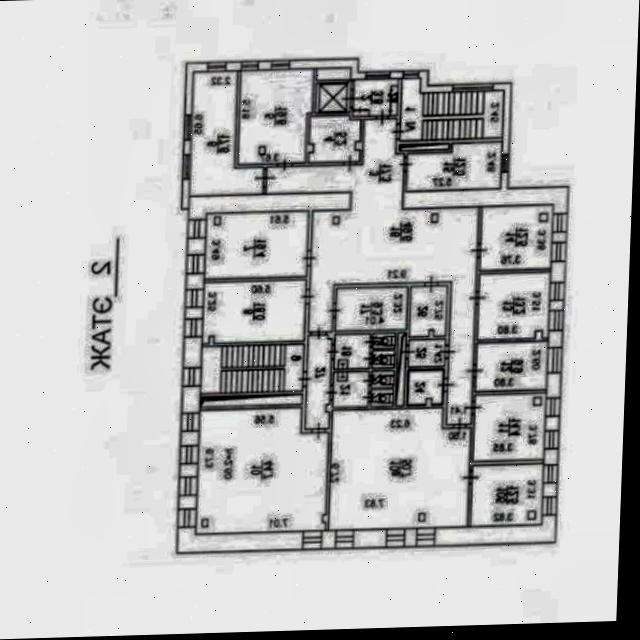room: (258, 114, 481, 424), (325, 406, 472, 529), (193, 407, 331, 532), (190, 70, 264, 196), (238, 66, 313, 165), (202, 210, 310, 278), (399, 77, 504, 144), (200, 279, 307, 342), (471, 393, 547, 460), (201, 344, 304, 392), (477, 272, 551, 338), (478, 205, 553, 269), (405, 142, 503, 190), (469, 463, 544, 525), (473, 341, 548, 390), (334, 287, 408, 329), (305, 334, 331, 429), (308, 115, 360, 162), (409, 284, 447, 337), (353, 78, 397, 115), (333, 333, 371, 368), (332, 371, 369, 406), (407, 370, 443, 403), (407, 338, 445, 365), (316, 81, 349, 111), (372, 350, 395, 367), (371, 370, 394, 387), (371, 389, 393, 405), (372, 332, 395, 347), (391, 85, 397, 113), (353, 110, 368, 115)
